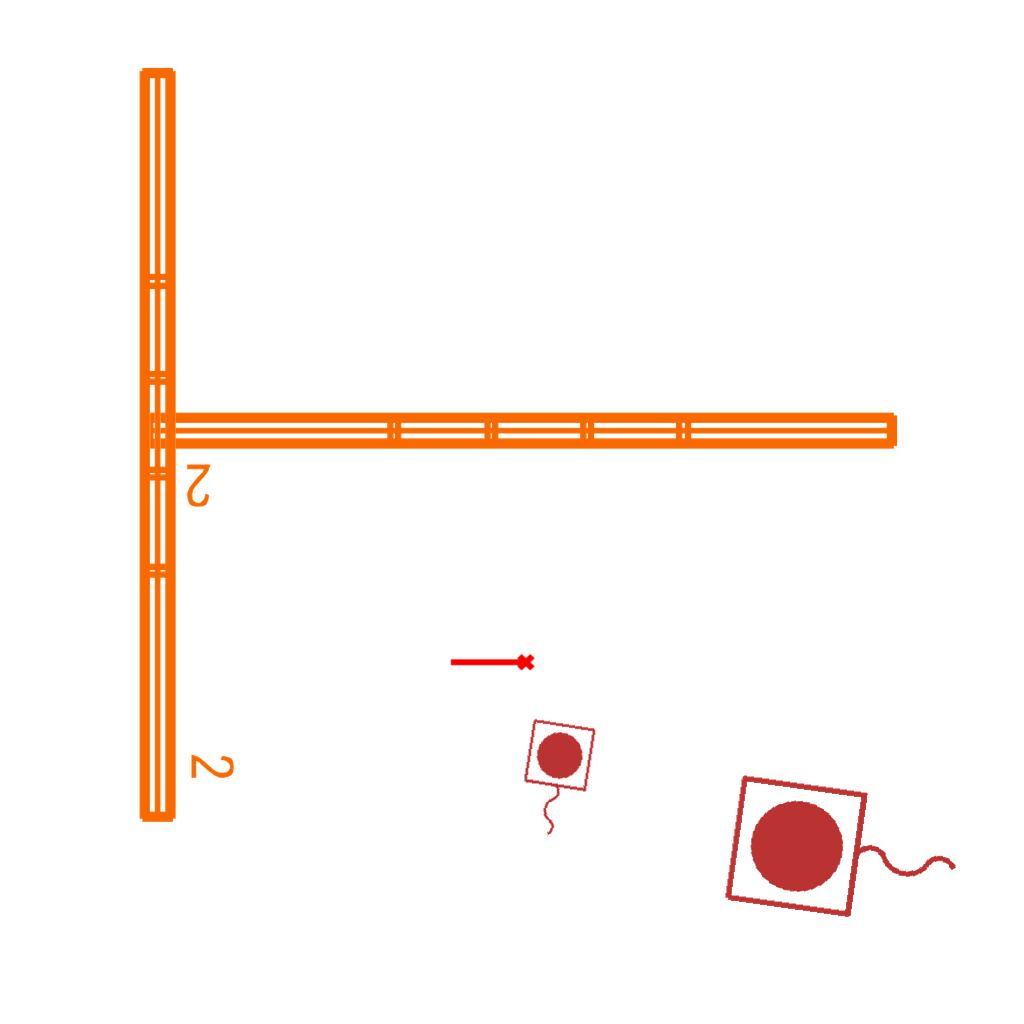ASR_Ansaugoeffnung: (448, 652, 536, 675)
Ambulanz_Pendelleuchte_LED: (134, 400, 908, 512), (127, 57, 239, 831)
Zugtaster: (715, 766, 977, 944), (509, 714, 601, 846)
